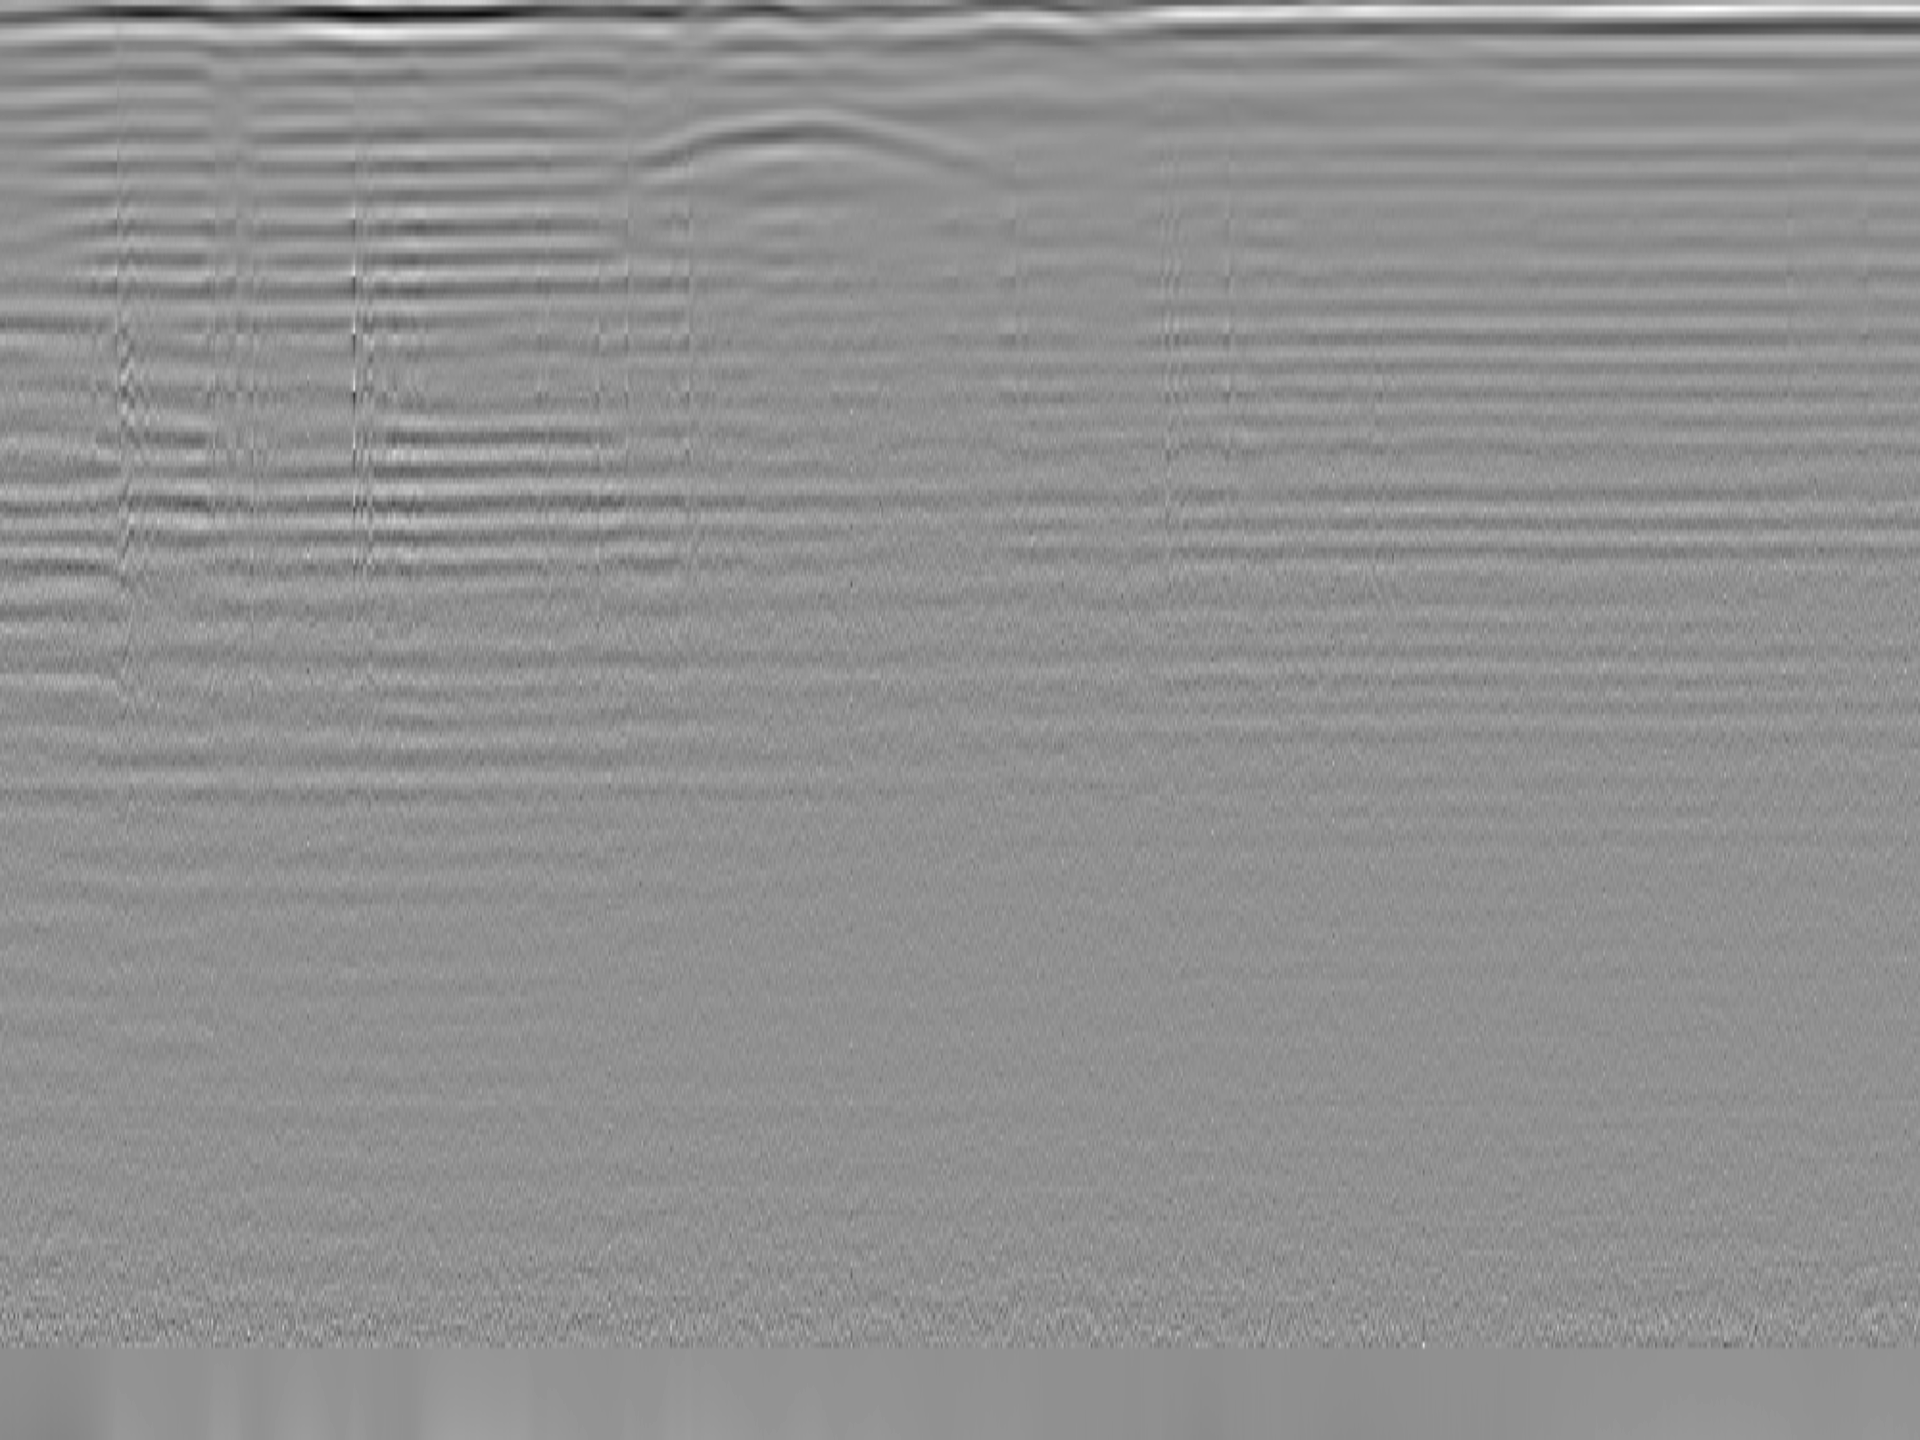Tunnel: (626, 109, 1005, 178)
